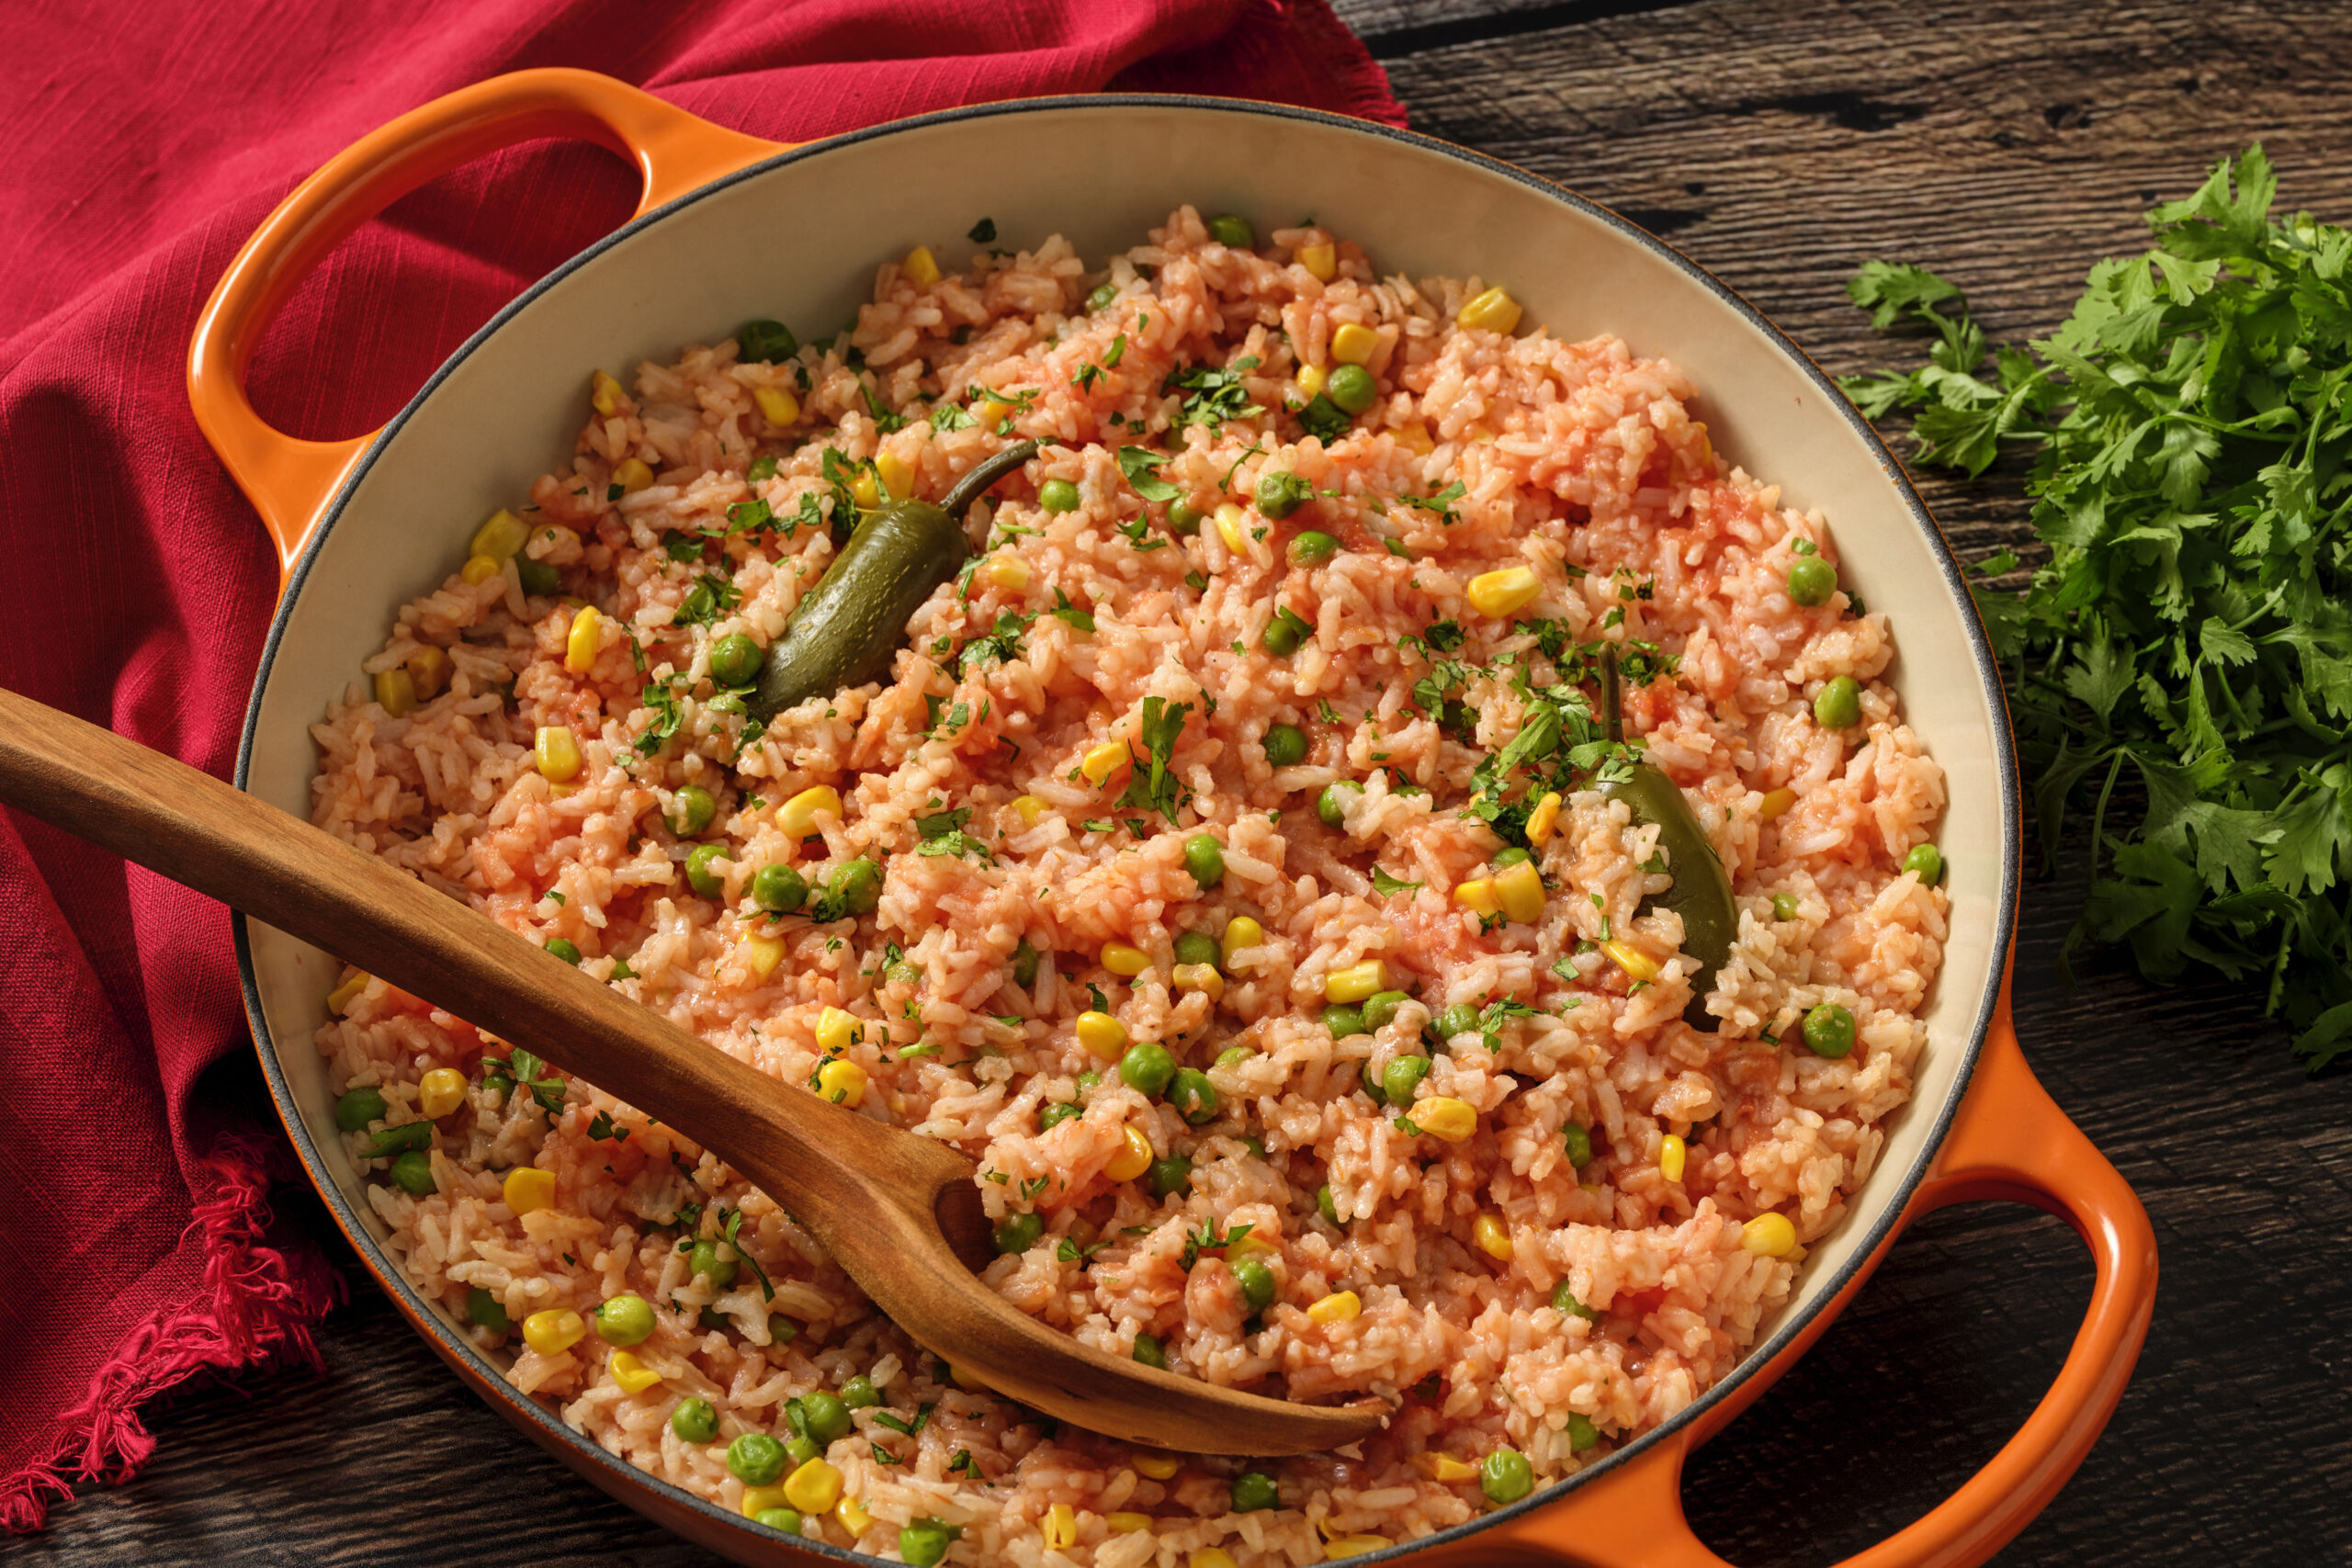Nasi Merah: (49, 121, 1949, 1482)
